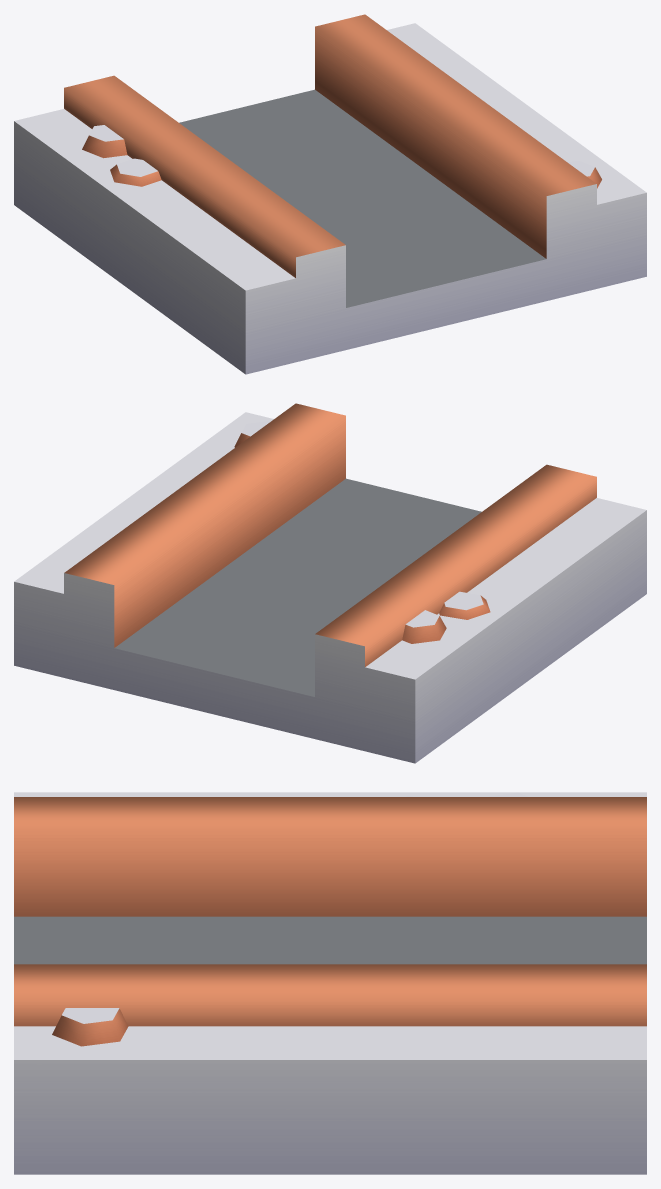
The model's file is snow-tile-river-straight.fbx.
The picture shows the model from 3 angles, top to bottom: view 1: azimuth 30°, elevation 25°; view 2: azimuth 150°, elevation 25°; view 3: azimuth 270°, elevation 25°; orthographic projection. The views are drawn at different scales.
Parts seen in each view (by area): view 1: snow-tile-river-straight; view 2: snow-tile-river-straight; view 3: snow-tile-river-straight.
Part boxes in pixels (<box>): snow-tile-river-straight: <box>14,14,646,374</box>; snow-tile-river-straight: <box>14,403,646,763</box>; snow-tile-river-straight: <box>14,792,646,1174</box>.
Bounding box in the file's own units: 100 × 25 × 100.
